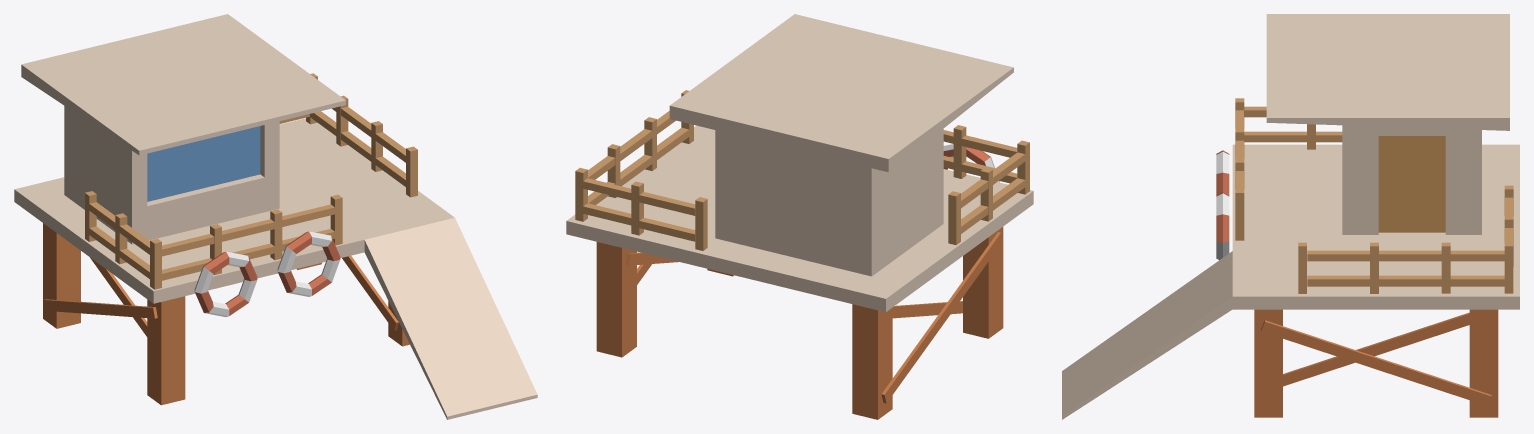
File: lifesaverbig.fbx
3 renders of one model, left to right at view 1: azimuth 30°, elevation 25°; view 2: azimuth 150°, elevation 25°; view 3: azimuth 270°, elevation 25°, orthographic. The views are drawn at different scales.
Parts seen in each view (by area): view 1: Cube, Cube.003, FH1.002, FH1.001, FH1, FV2, FH1.004, FV1.001, FV1.002, FH2; view 2: Cube, FV2.004, FV2.005, FV2.002, FV2.003, FH1, FV1, FV2.006, FV2.010, FV2.009, FV2.008, Cube.003 (+9 smaller); view 3: Cube, Cube.003, FH1.011, FH1.010, FH1.006, FH1.005, FH2.008, FH1.014, FH1.012, FV1.002, FH1.013, FV2.010 (+2 smaller).
Part boxes in pixels (x1=…): Cube: x1=14, y1=14, x2=537, y2=419; Cube.003: x1=194, y1=231, x2=340, y2=316; FH1.002: x1=282, y1=204, x2=334, y2=226; FH1.001: x1=222, y1=219, x2=274, y2=241; FH1: x1=162, y1=234, x2=214, y2=256; FV2: x1=150, y1=238, x2=161, y2=289; FH1.004: x1=406, y1=146, x2=417, y2=197; FV1.001: x1=270, y1=209, x2=282, y2=260; FV1.002: x1=330, y1=194, x2=342, y2=245; FH2: x1=162, y1=258, x2=211, y2=280; Cube: x1=566, y1=14, x2=1033, y2=419; FV2.004: x1=639, y1=217, x2=695, y2=241; FV2.005: x1=639, y1=192, x2=695, y2=215; FV2.002: x1=948, y1=191, x2=960, y2=244; FV2.003: x1=695, y1=197, x2=707, y2=250; FH1: x1=961, y1=135, x2=1017, y2=157; FV1: x1=953, y1=125, x2=966, y2=178; FV2.006: x1=631, y1=181, x2=643, y2=235; FV2.010: x1=575, y1=168, x2=587, y2=221; FV2.009: x1=583, y1=203, x2=631, y2=225; FV2.008: x1=583, y1=178, x2=631, y2=200; Cube.003: x1=943, y1=144, x2=999, y2=182; Cube: x1=1062, y1=14, x2=1519, y2=419; Cube.003: x1=1216, y1=150, x2=1229, y2=260; FH1.011: x1=1379, y1=275, x2=1441, y2=286; FH1.010: x1=1379, y1=250, x2=1441, y2=261; FH1.006: x1=1307, y1=250, x2=1369, y2=261; FH1.005: x1=1307, y1=275, x2=1369, y2=286; FH2.008: x1=1244, y1=131, x2=1306, y2=142; FH1.014: x1=1450, y1=275, x2=1504, y2=286; FH1.012: x1=1450, y1=250, x2=1504, y2=261; FV1.002: x1=1235, y1=189, x2=1244, y2=240; FH1.013: x1=1441, y1=242, x2=1450, y2=293; FV2.010: x1=1504, y1=242, x2=1513, y2=293.
Size of the model in its own units: 100 by 80.52 by 128.
